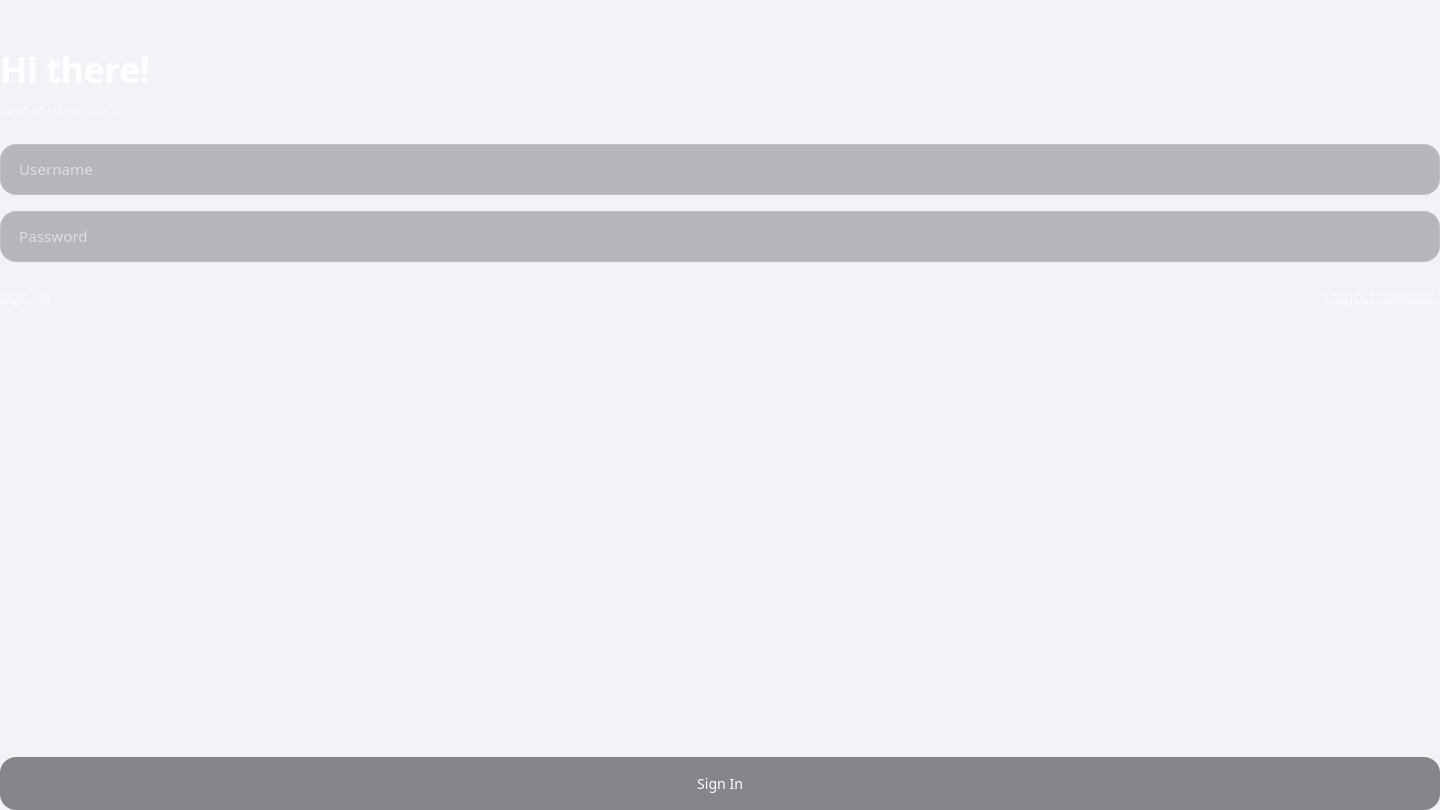
it: LoginPage › shows validation error when fields empty
Click the button "Sign In".
click(720, 783)  # box [0,757,1439,809]
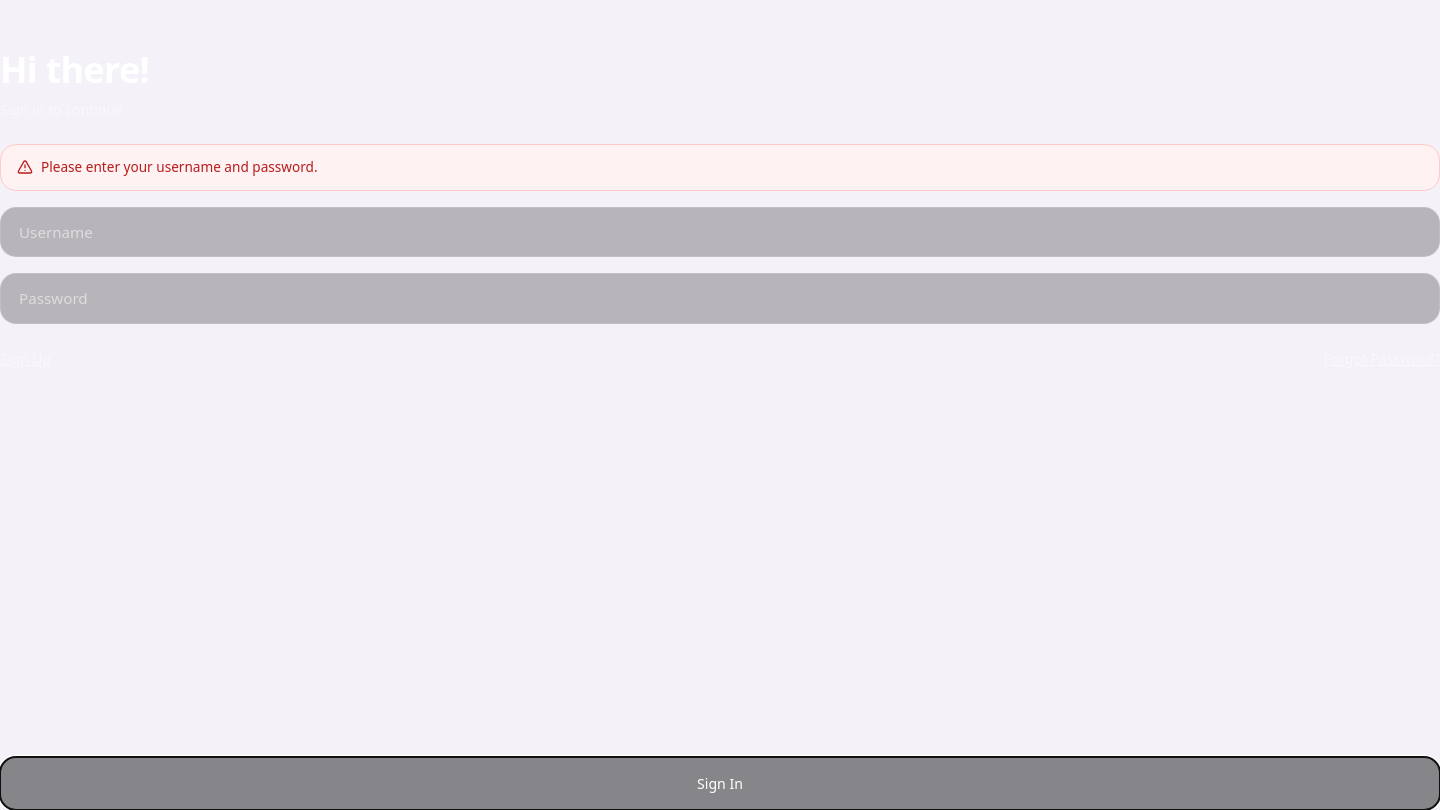
Expected: the text "Please enter your username and password." is shown, [41,157,318,178]
